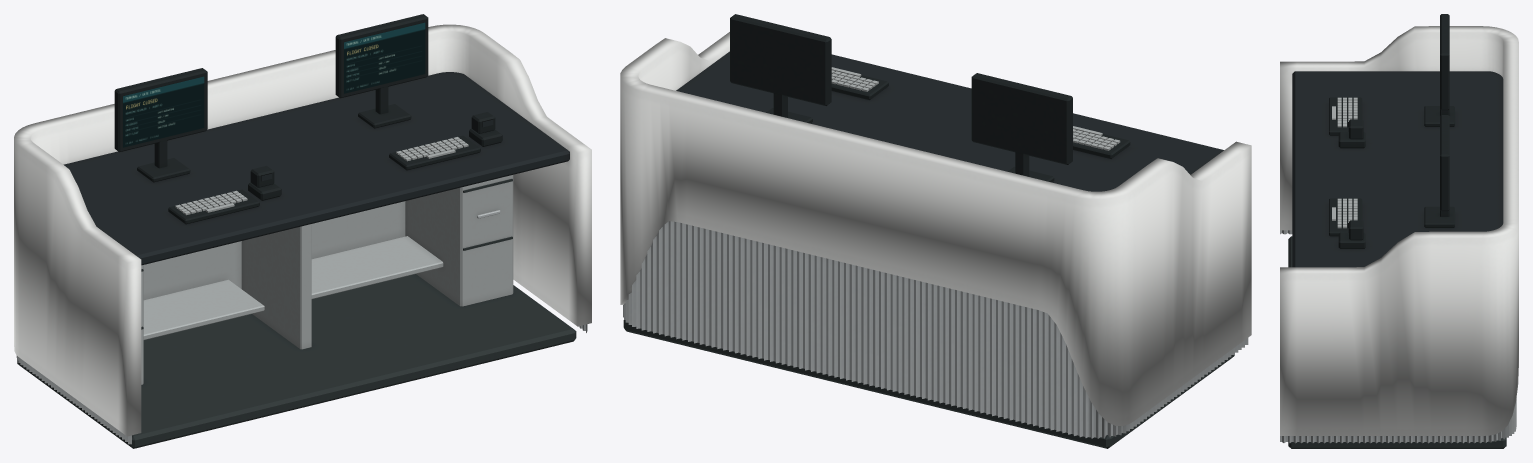
Rendered from airport_gate_desk.glb.
3 views of the same model, side by side, from view 1: azimuth 30°, elevation 25°; view 2: azimuth 150°, elevation 25°; view 3: azimuth 270°, elevation 25° (orthographic). The views are drawn at different scales.
Parts seen in each view (by area): view 1: airport_gate_desk_Body, GateDeskScreens; view 2: airport_gate_desk_Body; view 3: airport_gate_desk_Body.
Part boxes in pixels (x1,y1,x2,y2): airport_gate_desk_Body: [14, 14, 591, 448]; GateDeskScreens: [123, 22, 425, 147]; airport_gate_desk_Body: [620, 14, 1251, 448]; airport_gate_desk_Body: [1280, 14, 1518, 448].
Size of the model in its own units: 2.44 by 1.42 by 1.16.
2 materials, 2 textured.
